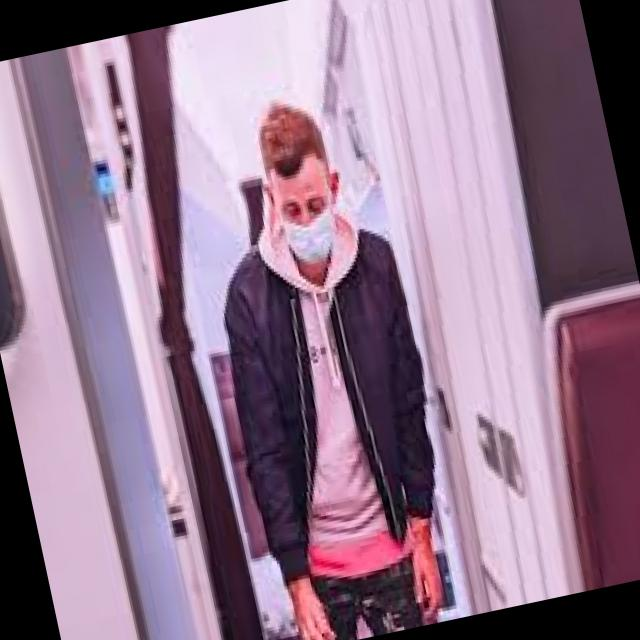Jacket: (118, 216, 474, 640)
